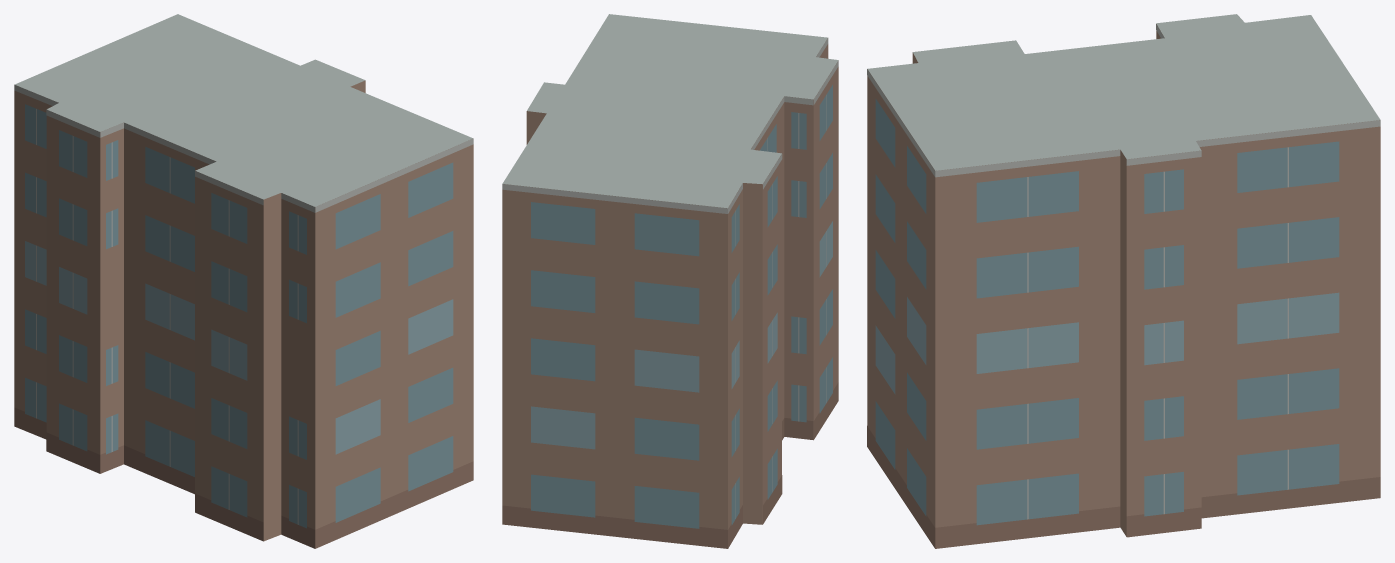
File: survey-upis-33005807.glb
3 renders of one model, left to right at view 1: azimuth 30°, elevation 25°; view 2: azimuth 150°, elevation 25°; view 3: azimuth 270°, elevation 25°, orthographic. The views are drawn at different scales.
Parts seen in each view (by area): view 1: survey-upis-33005807.tmp; view 2: survey-upis-33005807.tmp; view 3: survey-upis-33005807.tmp.
Boxes of the visible parts, x1=… form: survey-upis-33005807.tmp: x1=14, y1=14, x2=473, y2=548; survey-upis-33005807.tmp: x1=502, y1=14, x2=838, y2=548; survey-upis-33005807.tmp: x1=867, y1=14, x2=1380, y2=548.
Bounding box in the file's own units: 12.6 × 14.15 × 17.43.
